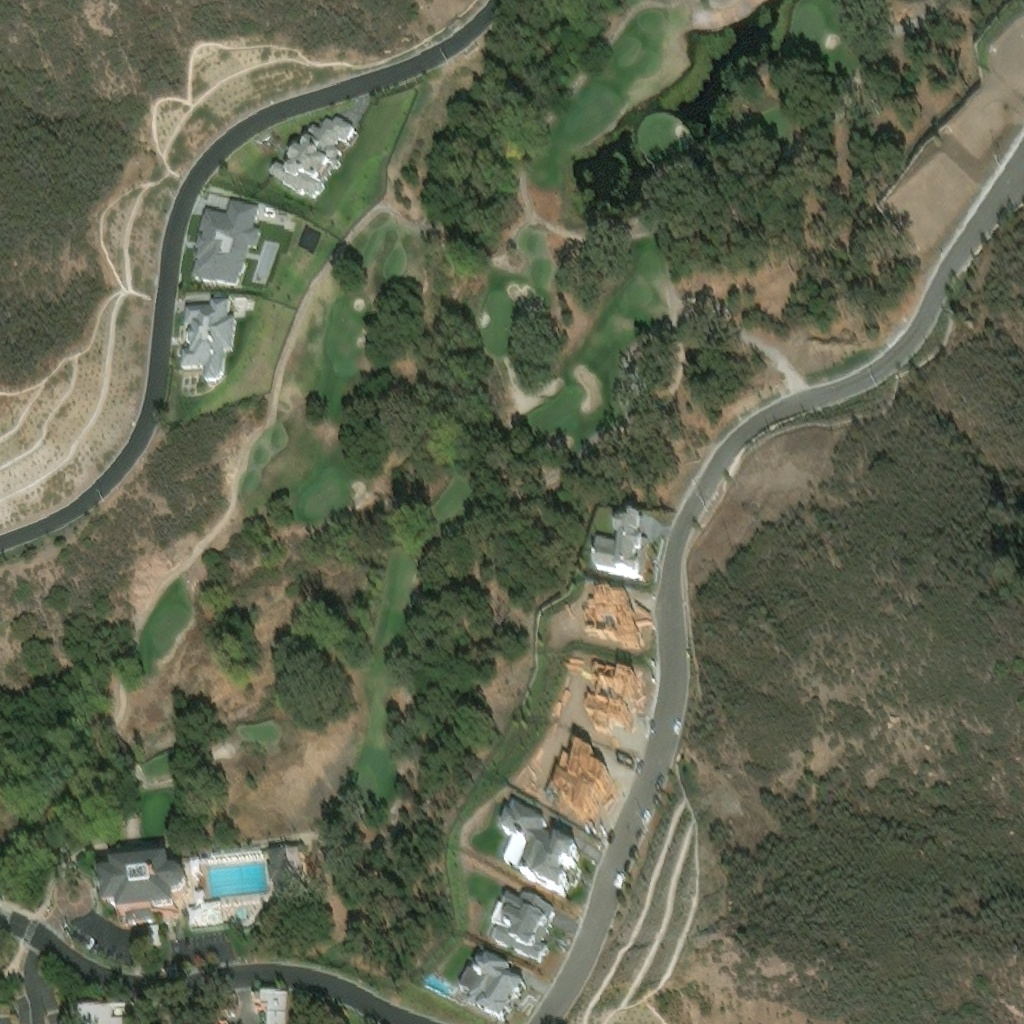0 no-damage: (269, 121, 358, 203), (192, 205, 264, 293), (98, 856, 187, 925), (498, 797, 572, 876), (457, 946, 524, 1020), (182, 306, 240, 387), (488, 879, 549, 951), (594, 515, 642, 577), (267, 847, 303, 897), (74, 1003, 142, 1023), (188, 891, 223, 926), (259, 991, 290, 1023)
4 un-classified: (554, 743, 605, 809), (586, 669, 634, 733)
